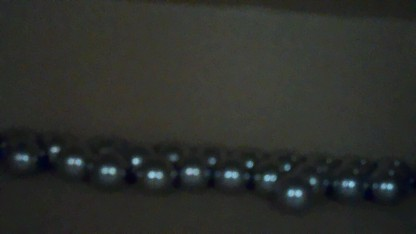ironball: (215, 163, 245, 191), (294, 165, 325, 192), (332, 173, 361, 201), (7, 135, 33, 166), (368, 174, 398, 200), (137, 167, 167, 192), (176, 163, 203, 189), (256, 167, 281, 192), (62, 152, 85, 179), (99, 162, 123, 187), (279, 178, 301, 205), (124, 148, 145, 170), (42, 141, 59, 164), (164, 146, 182, 165), (242, 151, 256, 172), (388, 156, 403, 171), (354, 151, 368, 166), (277, 157, 290, 173), (204, 151, 216, 168), (322, 154, 338, 164)
